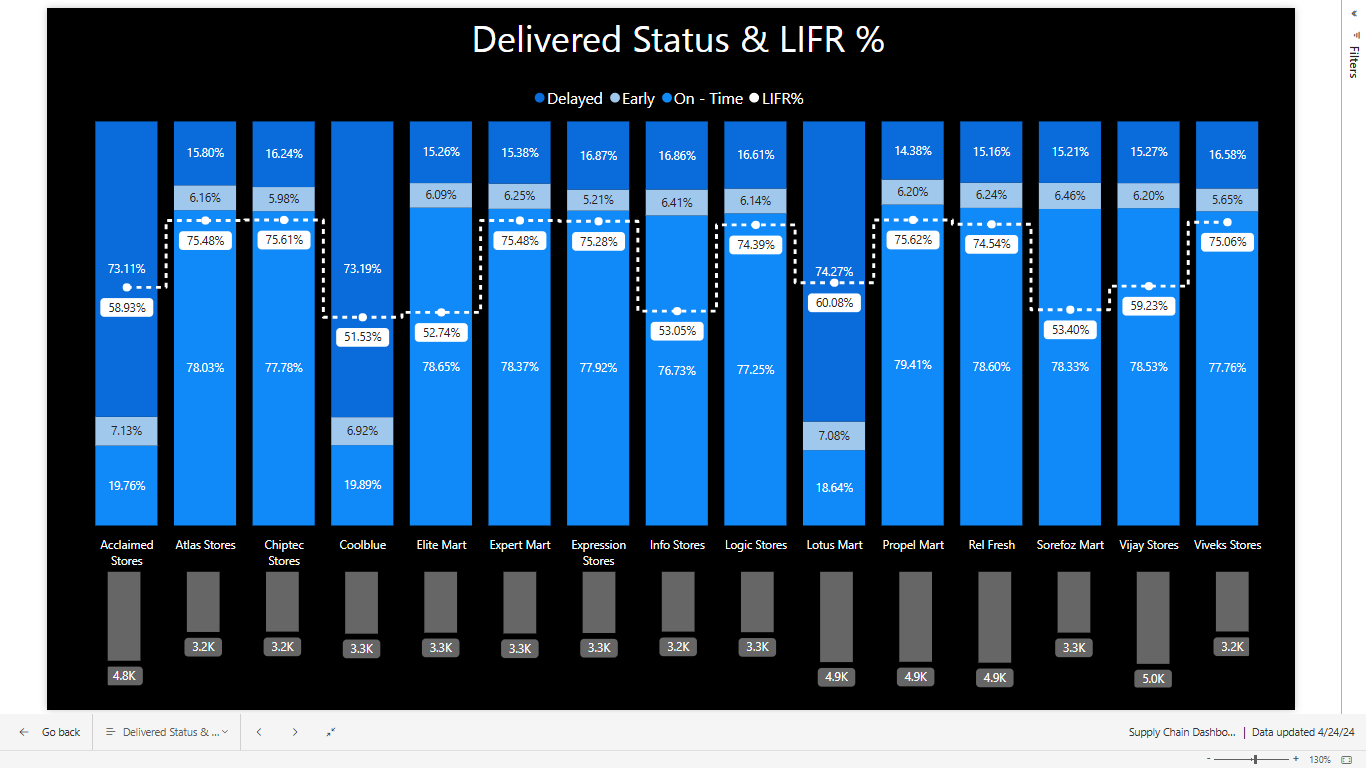

This screenshot's page, from the dashboard's own definition file:
{"tool":"powerbi","page":{"name":"Delivered Status & LIFR %","canvas":[1280,720],"ordinal":4},"visuals":[{"type":"lineStackedColumnComboChart","fields":{"Category":["dim_customers.customer_name"],"Series":["fact_order_lines.Delivery Status"],"Y2":["fact_order_lines.LIFR%"],"Y":["fact_order_lines.Stack column orderlines"]},"box":[0,69.9,1280,509.4],"z":0},{"type":"columnChart","fields":{"Category":["dim_customers.customer_name"],"Y":["fact_order_lines.Total Order Lines"]},"box":[57.1,569.4,1181.5,132.7],"z":1000},{"type":"textbox","box":[14.3,0,1265.7,69.9],"z":2000}]}

Visuals, with their boxes on the page's 1280x720 design canvas (x1, y1, x2, y2). These are canvas units, not pixel positions in the 1366x768 screenshot, which may show the page scaled, cropped or inside an application window:
lineStackedColumnComboChart - dim_customers.customer_name x fact_order_lines.Delivery Status: [0, 70, 1280, 579]
columnChart - dim_customers.customer_name x fact_order_lines.Total Order Lines: [57, 569, 1239, 702]
textbox: [14, 0, 1280, 70]
